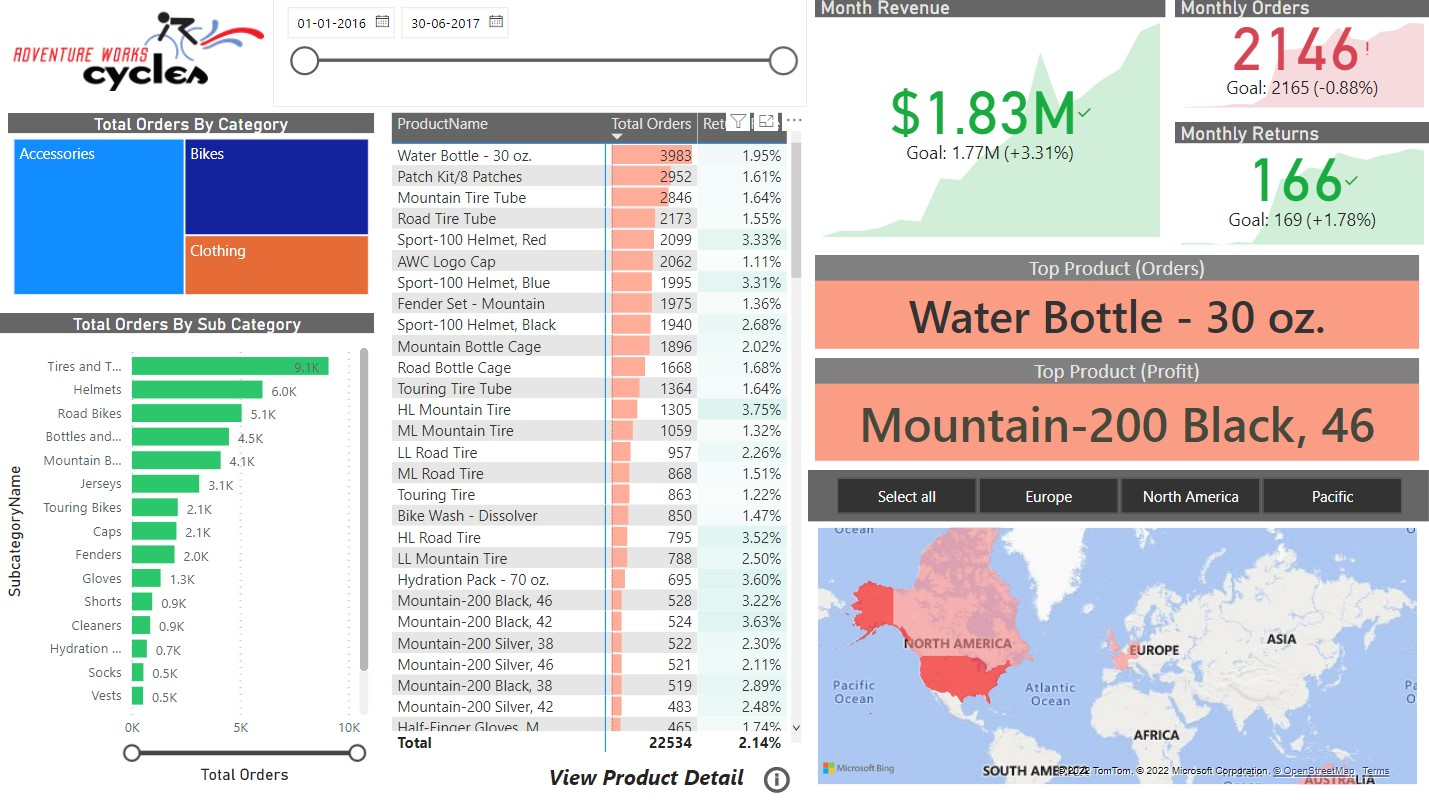

The page's visual inventory and layout, read from the dashboard file:
{"tool":"powerbi","page":{"name":"Exec Summary","canvas":[1280,720],"ordinal":0},"visuals":[{"type":"image","box":[7.3,0,237.3,99.1],"z":0},{"type":"barChart","title":"Total Orders By Sub Category","fields":{"Y":["AW_Sales.Total Orders"],"Category":["AW_Product_Subcategories_Lookup.SubcategoryName"]},"box":[0,284,335,426],"z":1000},{"type":"treemap","title":"Total Orders By  Category","fields":{"Group":["AW_Product_Category_Lookup.CategoryName","AW_Product_Subcategories_Lookup.SubcategoryName"],"Values":["AW_Sales.Total Orders"]},"box":[7,105,328,168],"z":2000},{"type":"pivotTable","fields":{"Values":["AW_Sales.Total Orders","AW_Returns.Return Rate"],"Rows":["AW_Product_Category_Lookup.CategoryName","AW_Product_Subcategories_Lookup.ProductSubcategoryKey","AW_Product_Lookup.ProductName"]},"box":[345.5,99.1,377.3,582.7],"z":3000},{"type":"slicer","fields":{"Values":["AW_Calendar.Date"]},"box":[244.5,0,478.2,99.1],"z":4000},{"type":"kpi","title":" Month Revenue ","fields":{"Indicator":["AW_Sales.Total Revenue"],"TrendLine":["AW_Calendar.Start of Month"],"Goal":["AW_Sales.Prev Month Revenue"]},"box":[730,0,313.6,220.9],"z":5000},{"type":"kpi","title":"Monthly Returns","fields":{"TrendLine":["AW_Calendar.Start of Month"],"Indicator":["AW_Returns.Total Returns"],"Goal":["AW_Returns.Prev Month Returns"]},"box":[1051.8,112.7,228.2,115.5],"z":6000},{"type":"kpi","title":"Monthly Orders","fields":{"TrendLine":["AW_Calendar.Start of Month"],"Indicator":["AW_Sales.Total Orders"],"Goal":["AW_Sales.Prev Month Orders"]},"box":[1052,0,228,105],"z":7000},{"type":"card","title":"Top Product (Orders)","fields":{"Values":["Min(AW_Product_Lookup.ProductName)"]},"box":[730,231.8,540.9,83.6],"z":8000},{"type":"card","title":"Top Product (Profit)","fields":{"Values":["Min(AW_Product_Lookup.ProductName)"]},"box":[730,324.5,540.9,91.8],"z":9000},{"type":"filledMap","title":"Total Orders (Country)","fields":{"Category":["AW_Territories.Country"]},"box":[727.3,470.9,547.3,240],"z":10000},{"type":"slicer","fields":{"Values":["AW_Territories.Continent"]},"box":[723.6,424.5,556.4,46.4],"z":11000},{"type":"textbox","box":[486.4,681.8,193.6,34.5],"z":12000},{"type":"actionButton","box":[680,686.4,31.8,33.6],"z":13000}]}

Visuals, with their boxes in screenshot pixels (x1, y1, x2, y2), scaled from the page's 1280x720 canvas onto the 1429x800 screenshot:
image: {"x1": 8, "y1": 0, "x2": 273, "y2": 110}
"Total Orders By Sub Category" barChart: {"x1": 0, "y1": 316, "x2": 374, "y2": 789}
"Total Orders By  Category" treemap: {"x1": 8, "y1": 117, "x2": 374, "y2": 303}
pivotTable - AW_Sales.Total Orders x AW_Returns.Return Rate: {"x1": 386, "y1": 110, "x2": 807, "y2": 758}
slicer - AW_Calendar.Date: {"x1": 273, "y1": 0, "x2": 807, "y2": 110}
" Month Revenue " kpi: {"x1": 815, "y1": 0, "x2": 1165, "y2": 245}
"Monthly Returns" kpi: {"x1": 1174, "y1": 125, "x2": 1428, "y2": 254}
"Monthly Orders" kpi: {"x1": 1174, "y1": 0, "x2": 1428, "y2": 117}
"Top Product (Orders)" card: {"x1": 815, "y1": 258, "x2": 1419, "y2": 350}
"Top Product (Profit)" card: {"x1": 815, "y1": 361, "x2": 1419, "y2": 463}
"Total Orders (Country)" filledMap: {"x1": 812, "y1": 523, "x2": 1423, "y2": 790}
slicer - AW_Territories.Continent: {"x1": 808, "y1": 472, "x2": 1428, "y2": 523}
textbox: {"x1": 543, "y1": 758, "x2": 759, "y2": 796}
actionButton: {"x1": 759, "y1": 763, "x2": 795, "y2": 799}
